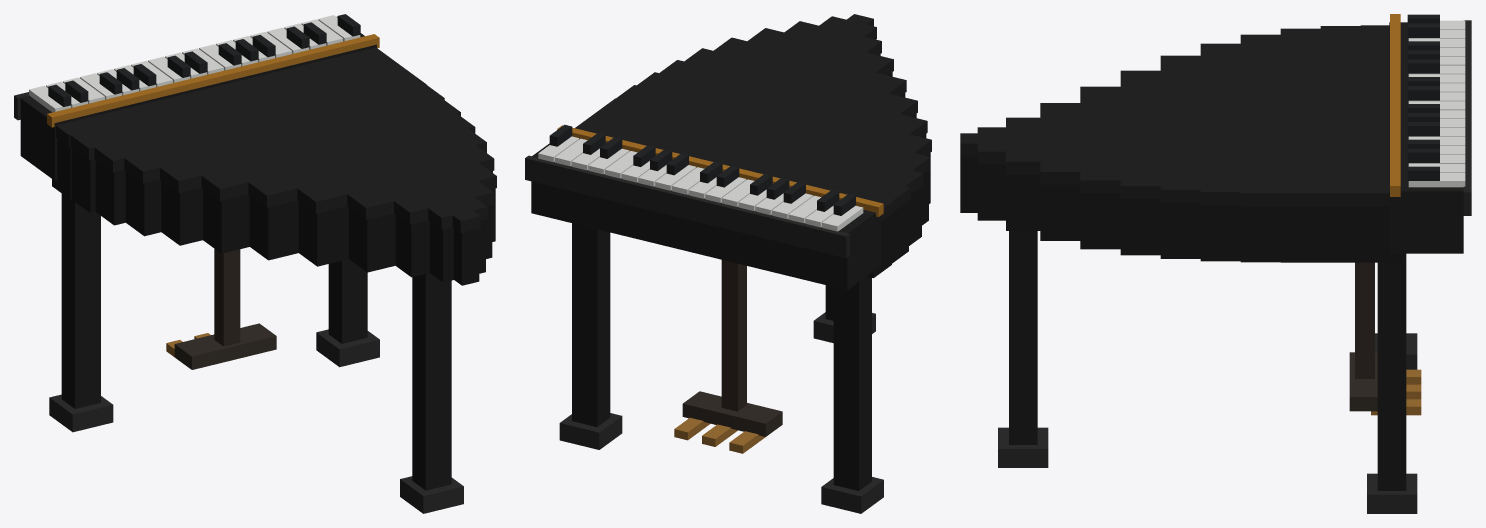
File: CMU3DMaterialLeisurePianoCloud.glb
3 renders of one model, left to right at view 1: azimuth 30°, elevation 25°; view 2: azimuth 150°, elevation 25°; view 3: azimuth 270°, elevation 25°, orthographic. The views are drawn at different scales.
Parts seen in each view (by area): view 1: piano square leg member 3, piano square leg, closed asymmetric lid section 1, closed asymmetric lid section 2, closed asymmetric lid section 3, closed asymmetric lid section 4, closed asymmetric lid section 5, closed asymmetric lid section 6, closed asymmetric lid section 0, closed asymmetric lid section 7, warm gold fallboard trim, wide keyboard crossbeam (+21 smaller); view 2: wide keyboard crossbeam, keyboard front dark rail, piano square leg, piano square leg member 2, closed asymmetric lid section 1, closed asymmetric lid section 2, closed asymmetric lid section 3, closed asymmetric lid section 4, closed asymmetric lid section 5, closed asymmetric lid section 6, pedal lyre vertical stem, closed asymmetric lid section 7 (+16 smaller); view 3: closed asymmetric lid section 1, closed asymmetric lid section 2, closed asymmetric lid section 3, piano square leg member 2, closed asymmetric lid section 4, wide keyboard crossbeam, piano square leg member 3, closed asymmetric lid section 5, closed asymmetric lid section 0, closed asymmetric lid section 6, closed asymmetric lid section 7, closed asymmetric lid section 8 (+21 smaller).
Boxes of the visible parts, left/top/right/bottom form: piano square leg member 3: left=412, top=273, right=451, bottom=490; piano square leg: left=61, top=193, right=100, bottom=408; closed asymmetric lid section 1: left=70, top=57, right=407, bottom=160; closed asymmetric lid section 2: left=94, top=71, right=426, bottom=172; closed asymmetric lid section 3: left=124, top=84, right=444, bottom=183; closed asymmetric lid section 4: left=160, top=98, right=460, bottom=192; closed asymmetric lid section 5: left=201, top=113, right=475, bottom=200; closed asymmetric lid section 6: left=248, top=128, right=486, bottom=207; closed asymmetric lid section 0: left=56, top=47, right=388, bottom=147; closed asymmetric lid section 7: left=297, top=145, right=494, bottom=213; warm gold fallboard trim: left=47, top=34, right=379, bottom=127; wide keyboard crossbeam: left=20, top=33, right=376, bottom=180; wide keyboard crossbeam: left=531, top=143, right=880, bottom=290; keyboard front dark rail: left=525, top=155, right=849, bottom=258; piano square leg: left=833, top=276, right=871, bottom=490; piano square leg member 2: left=572, top=223, right=610, bottom=426; closed asymmetric lid section 1: left=579, top=111, right=910, bottom=211; closed asymmetric lid section 2: left=597, top=98, right=923, bottom=194; closed asymmetric lid section 3: left=616, top=85, right=930, bottom=173; closed asymmetric lid section 4: left=637, top=72, right=931, bottom=155; closed asymmetric lid section 5: left=659, top=60, right=927, bottom=136; closed asymmetric lid section 6: left=684, top=48, right=917, bottom=116; pedal lyre vertical stem: left=721, top=260, right=746, bottom=411; closed asymmetric lid section 7: left=713, top=37, right=906, bottom=96; closed asymmetric lid section 1: left=1320, top=26, right=1360, bottom=206; closed asymmetric lid section 2: left=1280, top=28, right=1320, bottom=206; closed asymmetric lid section 3: left=1240, top=34, right=1280, bottom=206; piano square leg member 2: left=1377, top=253, right=1406, bottom=490; closed asymmetric lid section 4: left=1200, top=43, right=1240, bottom=204; wide keyboard crossbeam: left=1389, top=22, right=1463, bottom=253; piano square leg member 3: left=1009, top=231, right=1037, bottom=444; closed asymmetric lid section 5: left=1160, top=55, right=1200, bottom=202; closed asymmetric lid section 0: left=1360, top=25, right=1389, bottom=206; closed asymmetric lid section 6: left=1120, top=70, right=1160, bottom=198; closed asymmetric lid section 7: left=1080, top=86, right=1120, bottom=192; closed asymmetric lid section 8: left=1040, top=103, right=1080, bottom=184.
Size of the model in its own units: 0.712 by 0.662 by 0.894.
